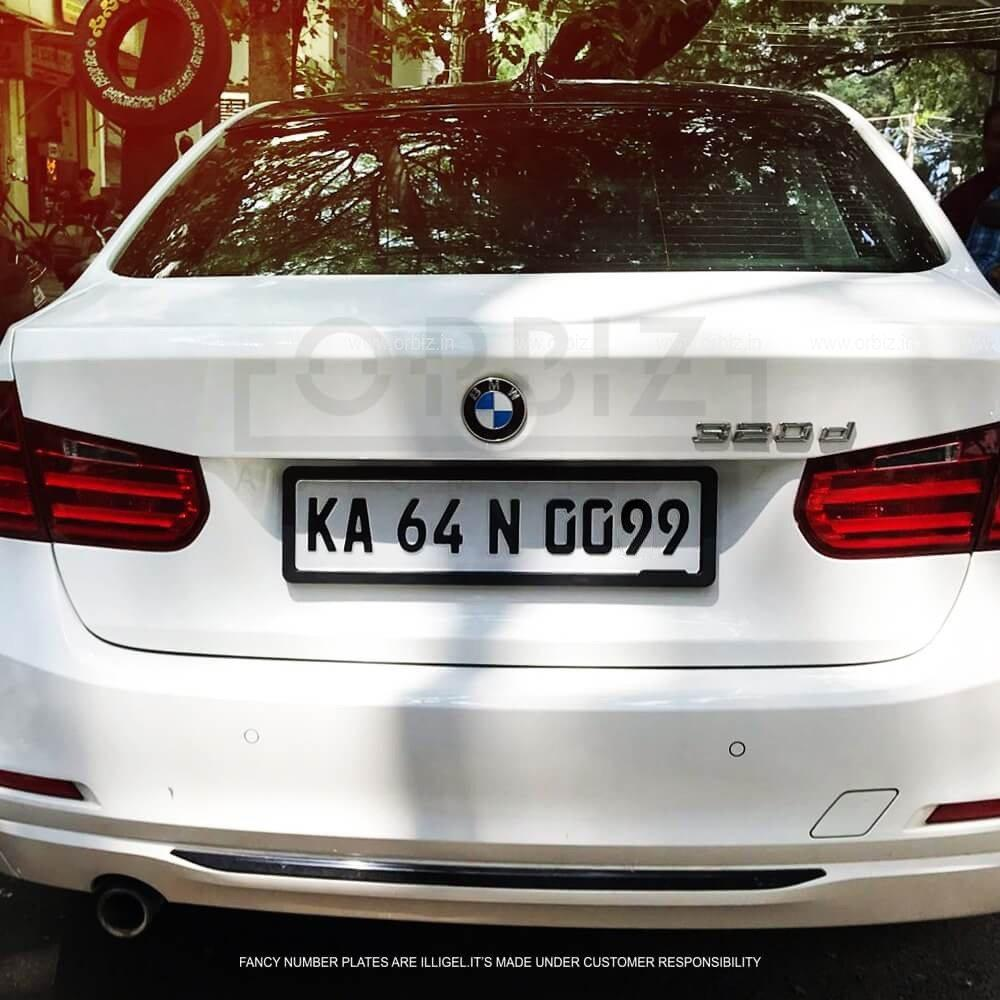Liscence Plate: (271, 464, 733, 593)
